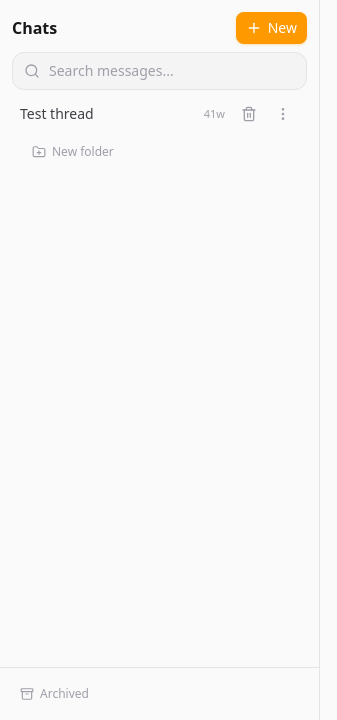
Test: ThreadSidebar global search › shows "+N more" when a section returns more than 10 results
Type "thread" into the field with placeholder "Search messages..." at (160, 71), box [12,52,307,90]
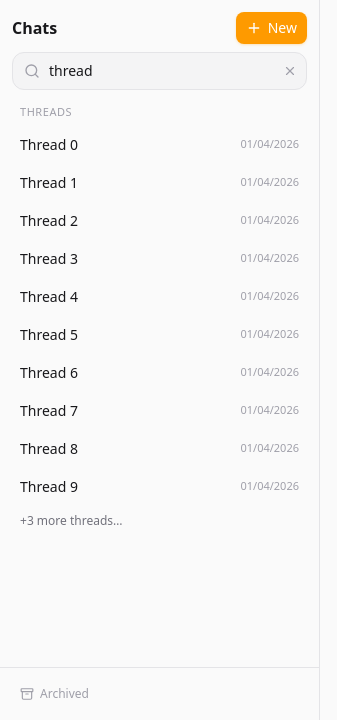
Now the text "Threads" is shown, box [20,104,72,119]
Now the text "Thread 0" is shown, box [20,134,78,154]
Now the text "Thread 9" is shown, box [20,476,78,496]
